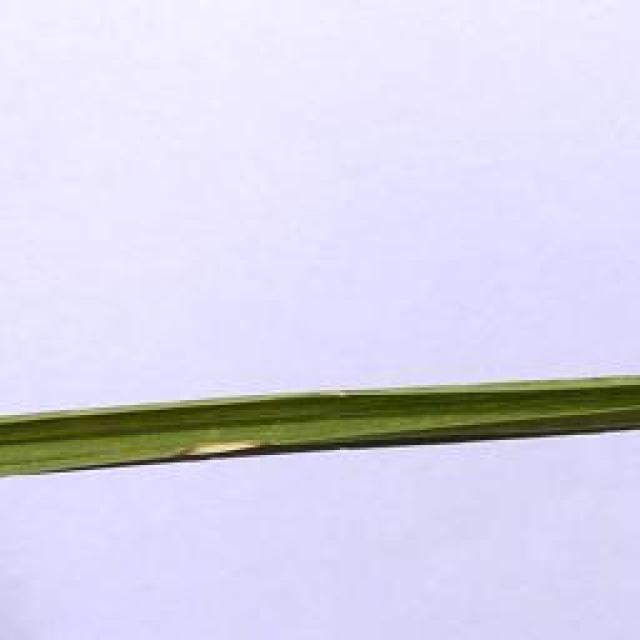Unhealthy: (160, 440, 259, 459)
